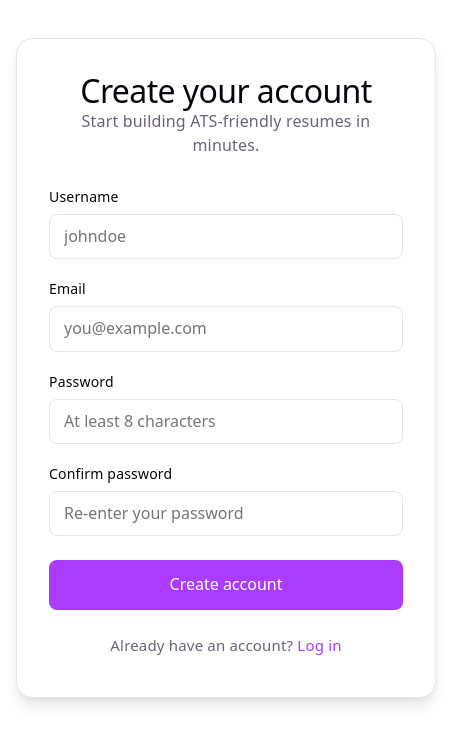
Register › shows the error from the server
Type "sam" into the field labelled "Username". click: (226, 237)
box: [49,214,403,259]
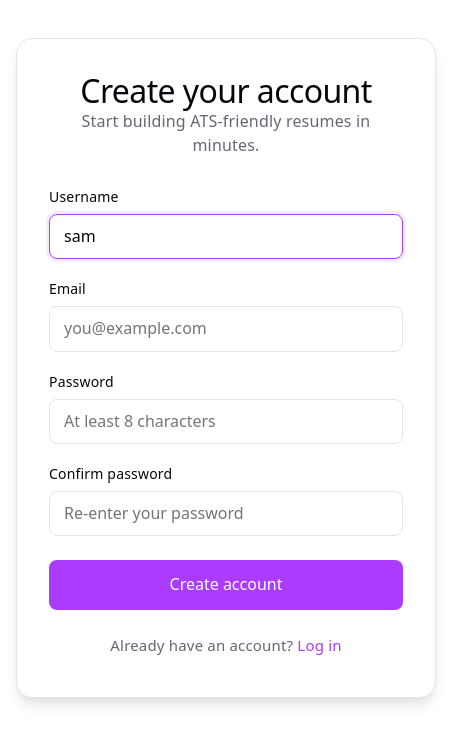
Type "sam@x.io" into the field labelled "Email". click: (226, 329)
box: [49,306,403,352]
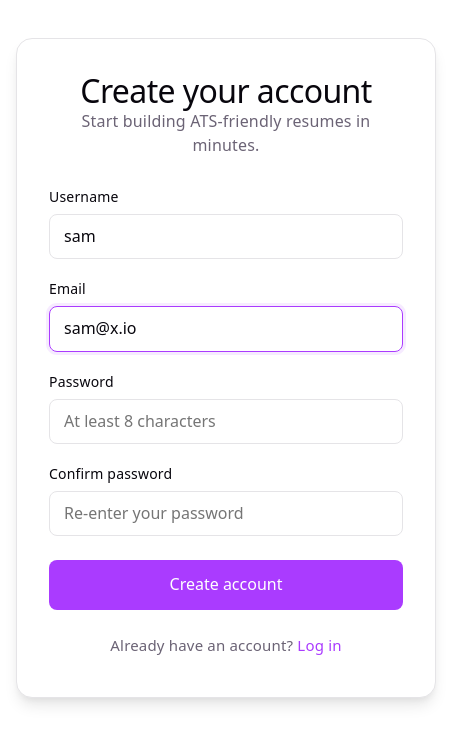
Type "password1" into the password field labelled "Password". click: (226, 421)
box: [49,399,403,444]
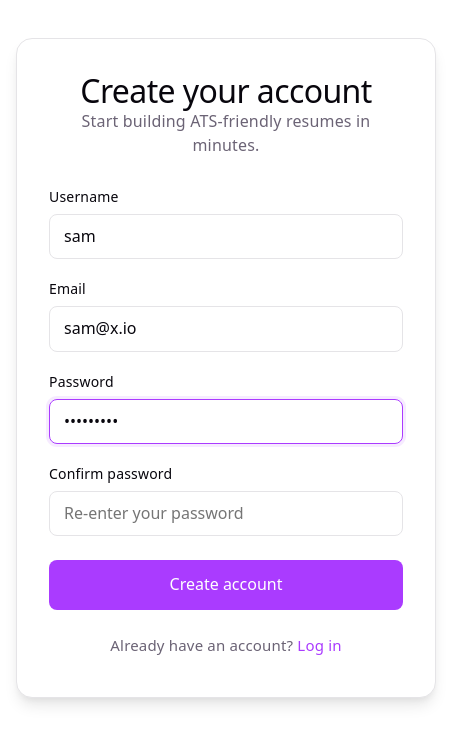
Type "password1" into the password field labelled "Confirm password". click: (226, 514)
box: [49,491,403,536]
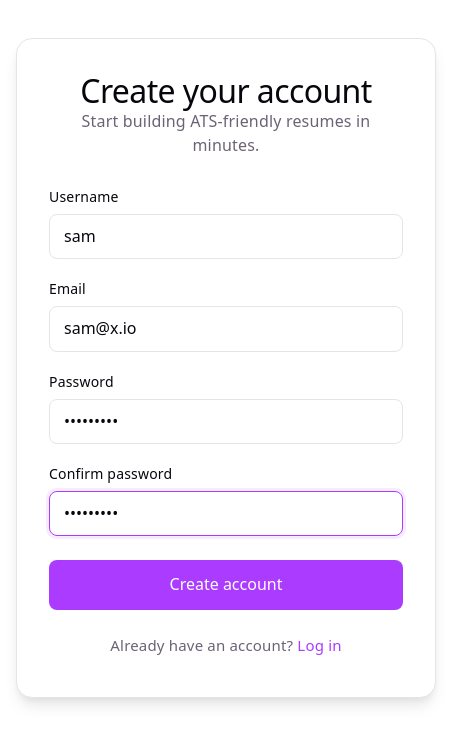
Click the button "Create account". click: (226, 585)
box: [49,560,403,610]
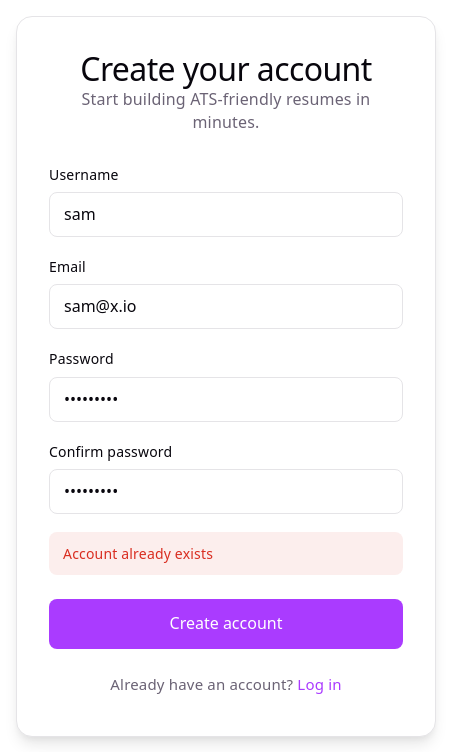
Check: the text "Account already exists" is shown, box [49,532,403,575]
